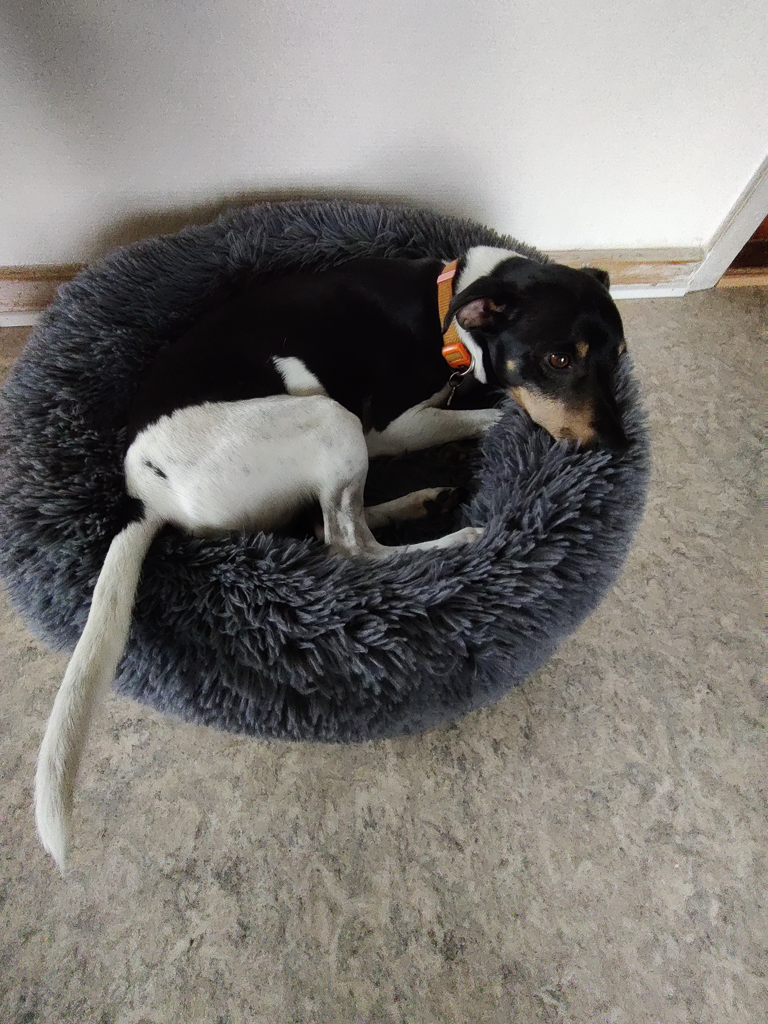Dog: (19, 231, 659, 894)
